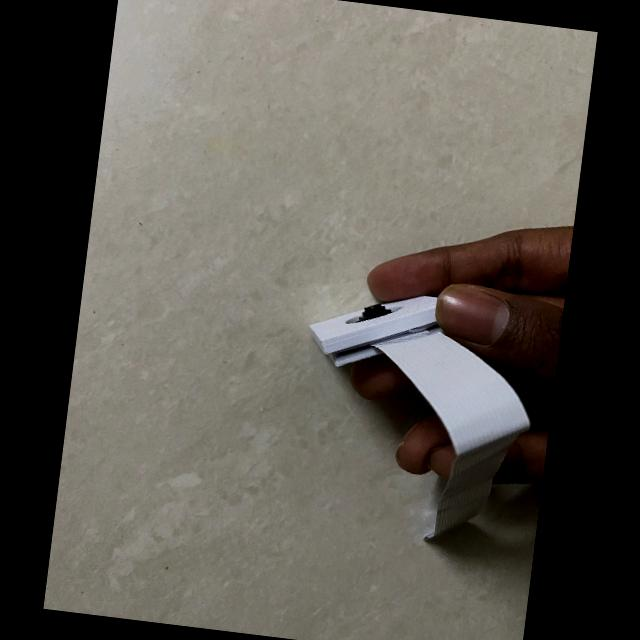RASPBERY PI CAM ENCLOSURE: (304, 281, 444, 378)
